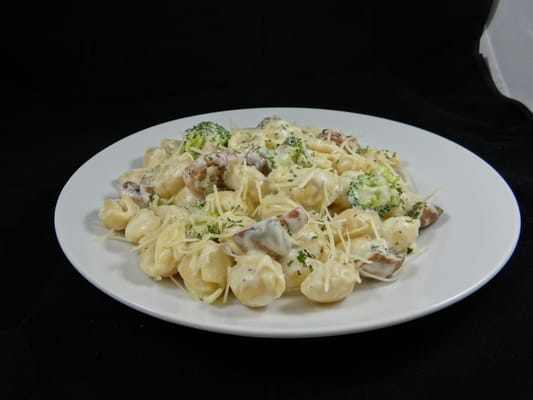curry: (346, 164, 424, 219), (347, 163, 405, 213), (181, 121, 231, 154)
